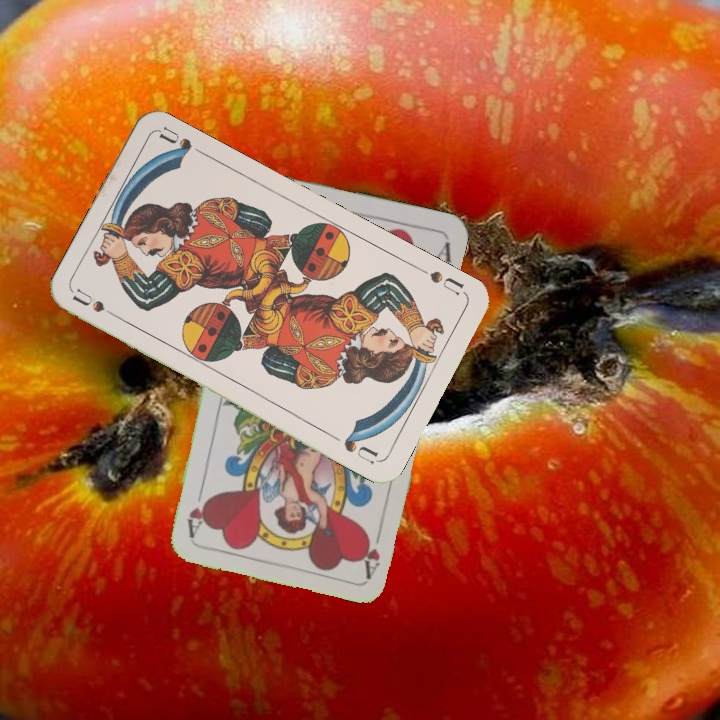HA: (358, 520, 385, 579)
SU: (69, 285, 125, 324), (425, 266, 467, 298)
